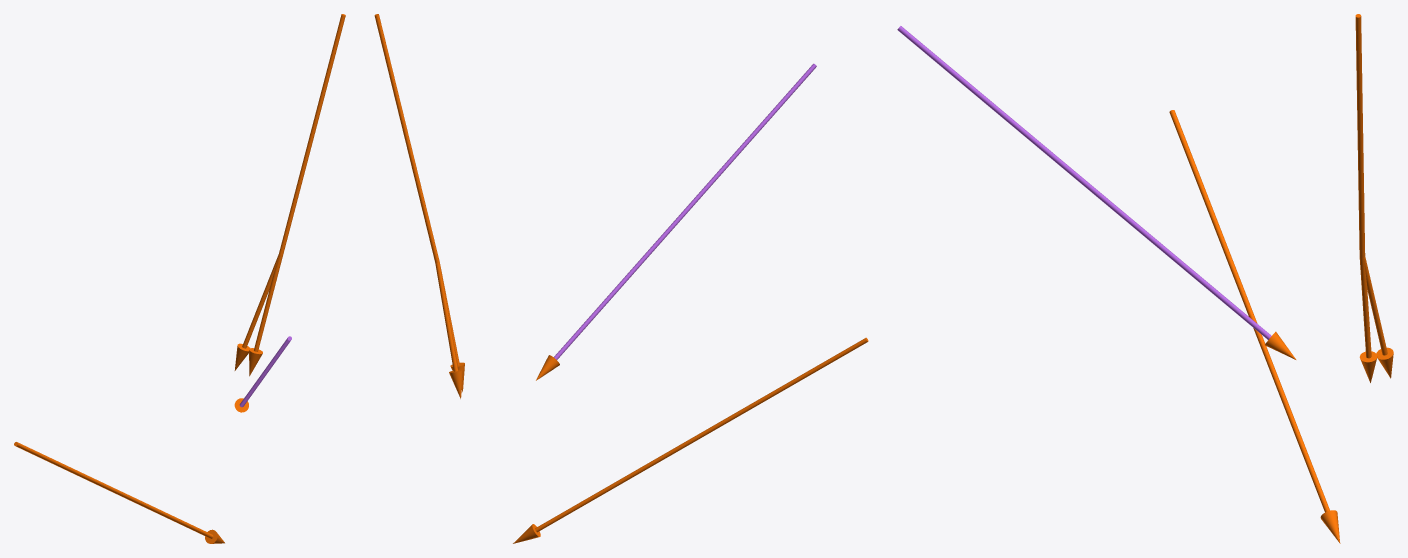
The model's file is s7arrow.glb.
3 views of the same model, side by side, from view 1: azimuth 30°, elevation 25°; view 2: azimuth 150°, elevation 25°; view 3: azimuth 270°, elevation 25° (orthographic). The views are drawn at different scales.
Visible parts, largest first — view 1: Node; view 2: Node; view 3: Node.
Part boxes in pixels (x1=…): Node: x1=14, y1=14, x2=345, y2=543; Node: x1=374, y1=14, x2=868, y2=543; Node: x1=897, y1=14, x2=1393, y2=543.
Bounding box in the file's own units: 12.29 × 14.23 × 10.6.
